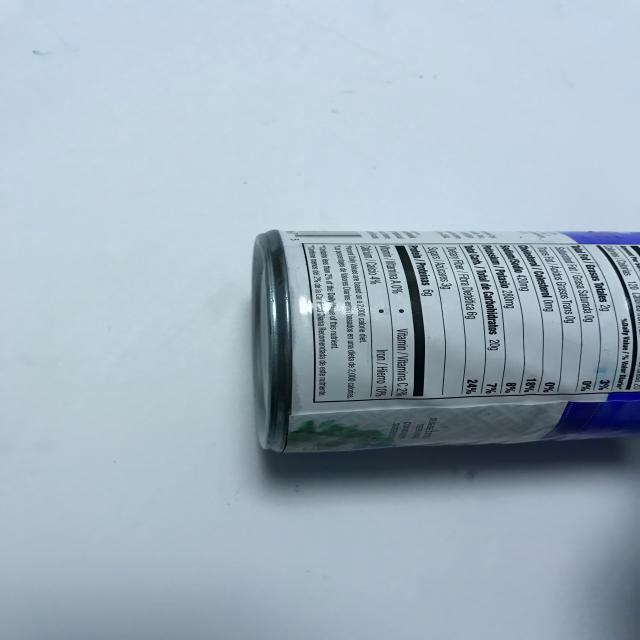metal: (216, 213, 640, 488)
